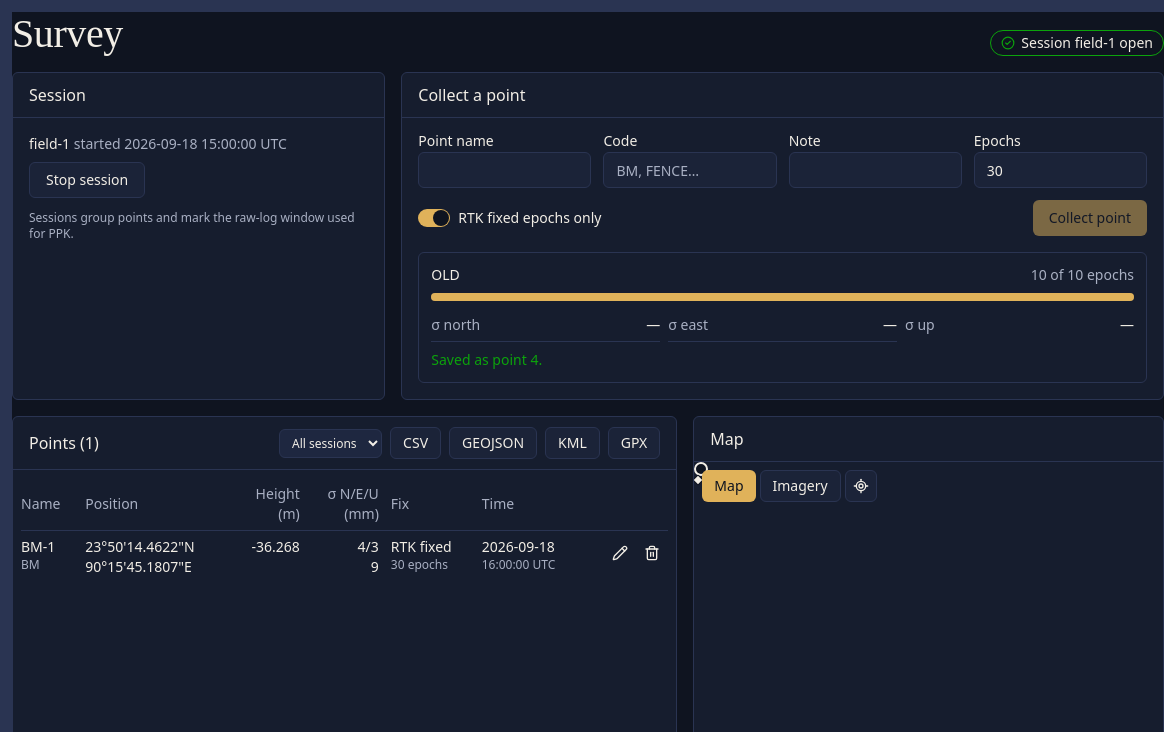
Test: Survey page › shows the collection the server just started, without waiting for the first progress update
Expected: the text "BM-1" is shown, [21,537,55,556]
Expected: the text "Saved as point 4." is shown, [431,350,542,369]
Type "BM-2" into the field labelled "Point name".
click(505, 170); type("BM-2")  # box [418,152,592,188]
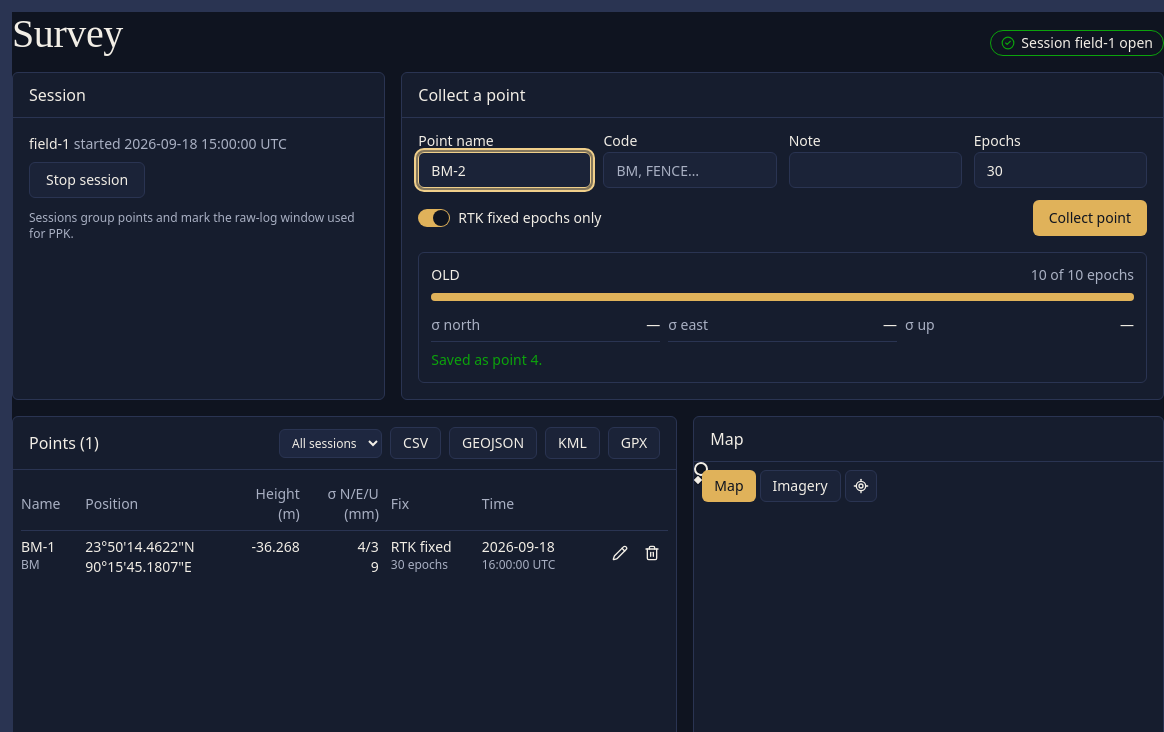
Click the button "Collect point".
click(1090, 218)  # box [1033,200,1147,236]
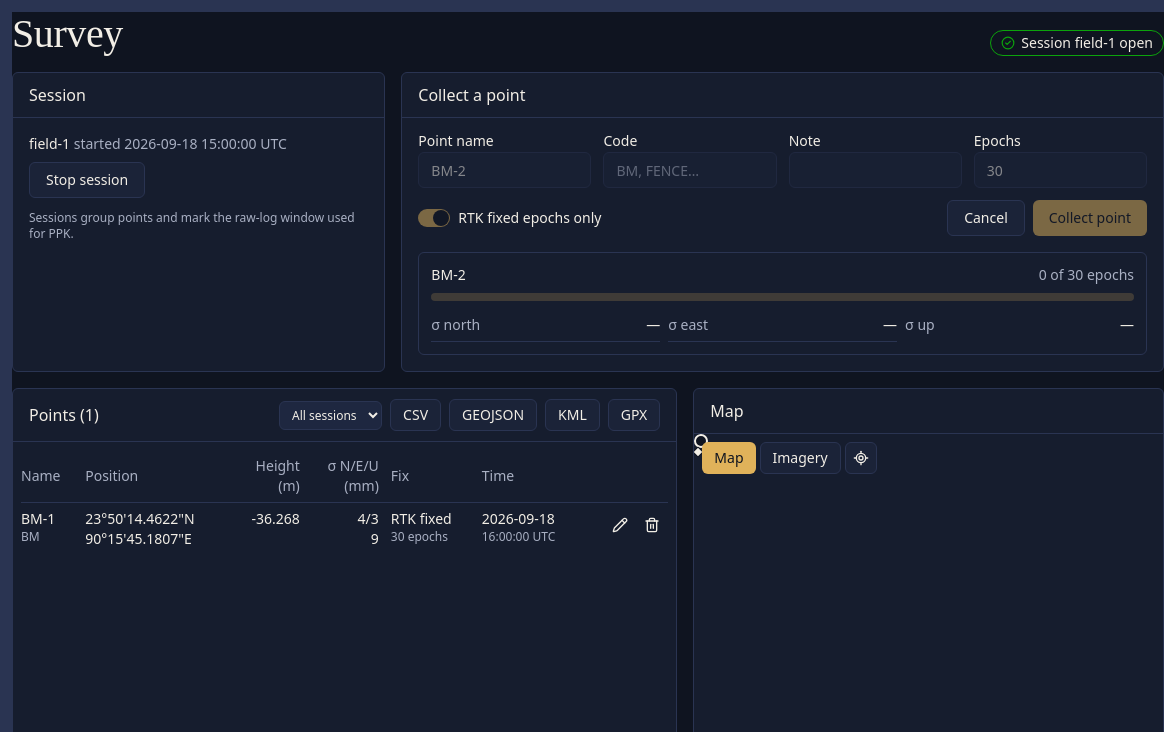
Expected: the text "0 of 30 epochs" is shown, [1039,265,1134,285]
Expected: the text "Saved as point 4" is gone
Expected: the button "Collect point" is disabled, [1033,200,1147,236]
